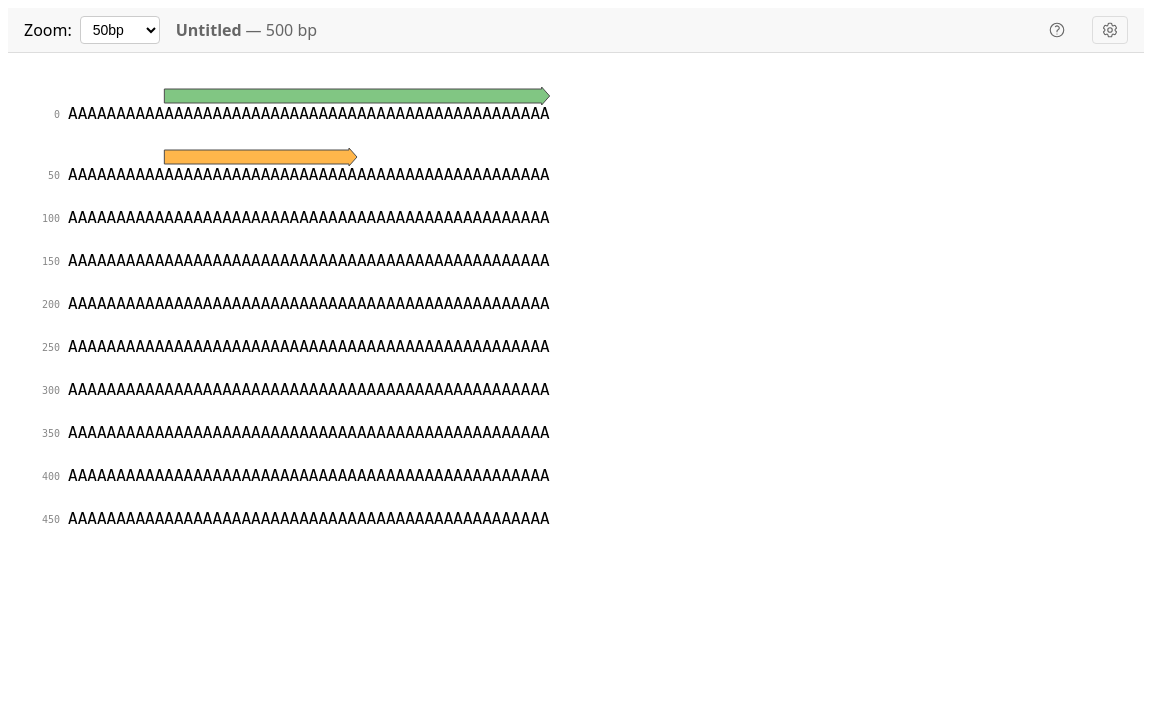
it: SequenceEditor › config panel › shows annotation types when annotations exist
Click the button with class "config-button" at (1110, 30), box [1092,16,1128,44]
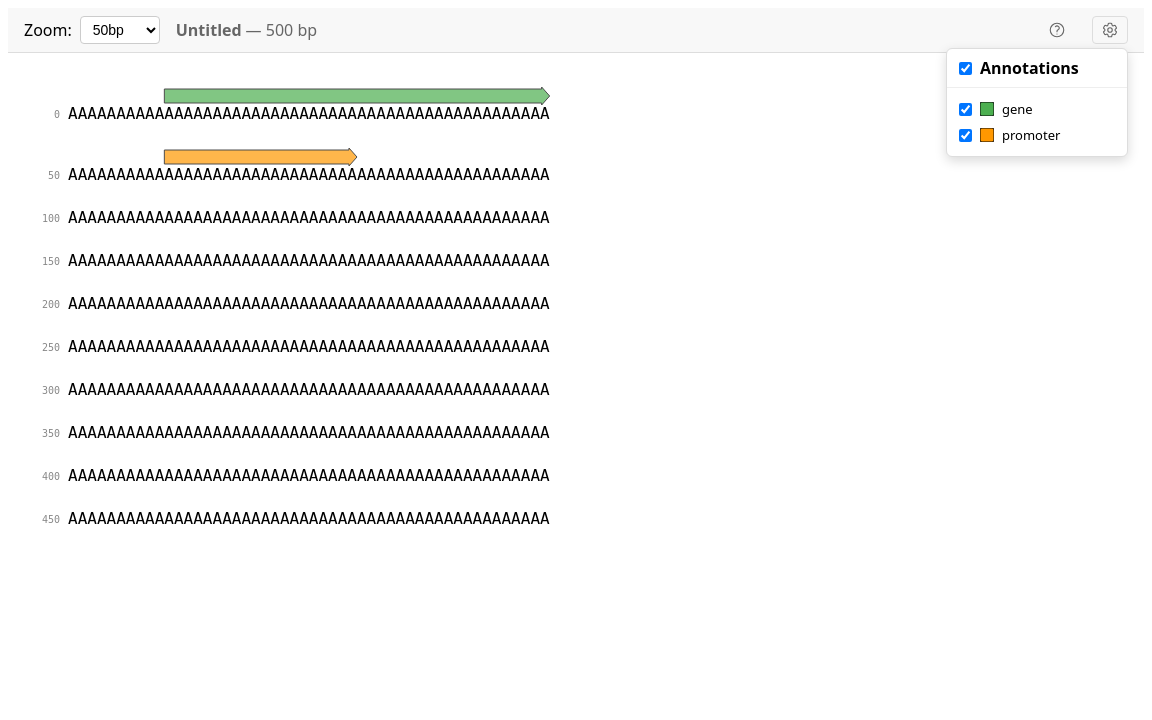
Check: the number of elements with class "type-name" is 2, box [1002,100,1033,118]; [1002,126,1060,144]
